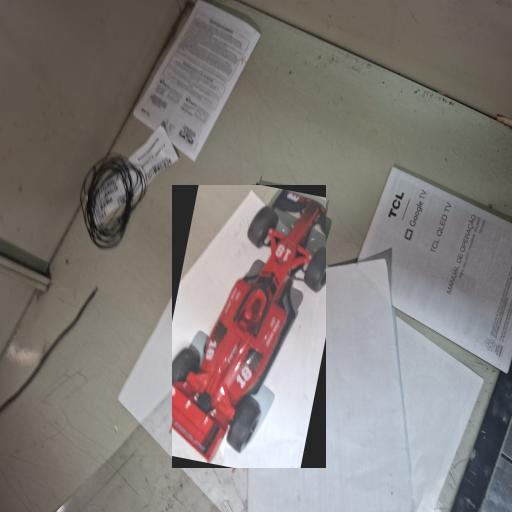carro: (173, 186, 325, 467)
